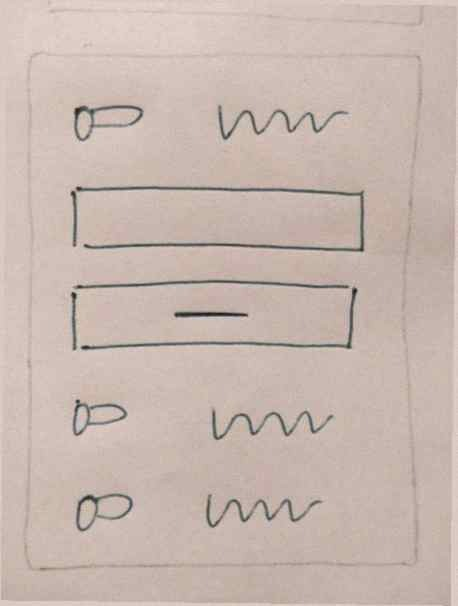button: (57, 273, 364, 363)
switch: (59, 394, 147, 444), (59, 487, 147, 537), (62, 96, 149, 146)
text: (199, 391, 344, 446), (196, 482, 341, 537), (207, 95, 351, 150)
text_input: (60, 180, 373, 267)
